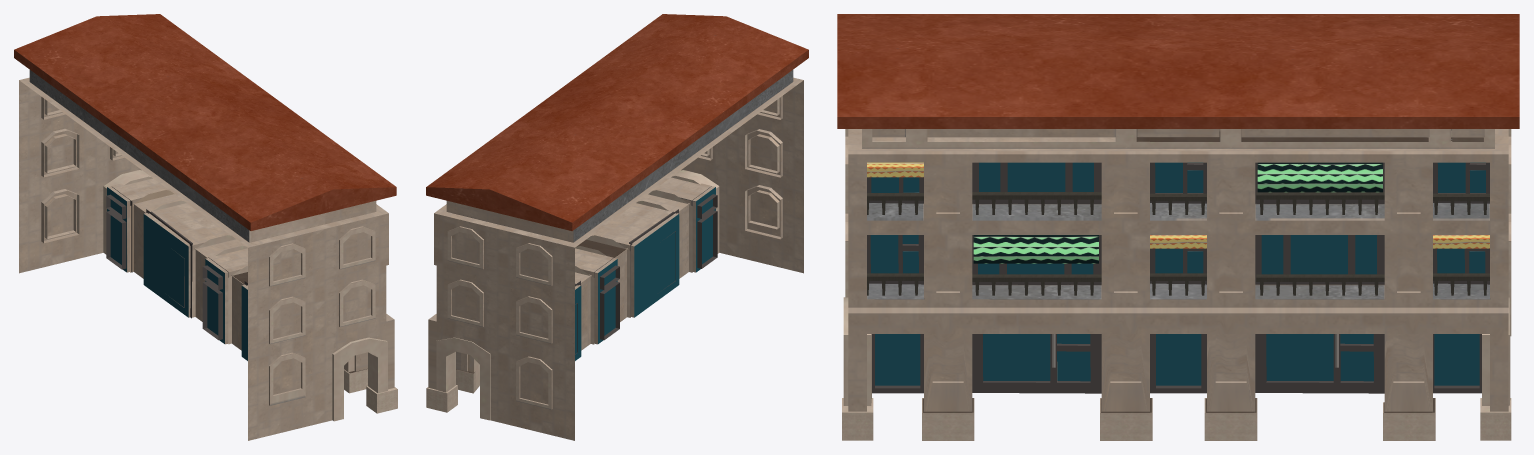
The model's file is Bat_VieuxPort_2.fbx.
3 renders of one model, left to right at view 1: azimuth 30°, elevation 25°; view 2: azimuth 150°, elevation 25°; view 3: azimuth 270°, elevation 25°, orthographic. The views are drawn at different scales.
Parts seen in each view (by area): view 1: Bat_VieuxP_2; view 2: Bat_VieuxP_2; view 3: Bat_VieuxP_2.
Boxes of the visible parts, left/top/right/bottom form: Bat_VieuxP_2: left=14, top=14, right=397, bottom=440; Bat_VieuxP_2: left=426, top=14, right=808, bottom=440; Bat_VieuxP_2: left=837, top=14, right=1519, bottom=440.
Size of the model in its own units: 921 by 1395 by 2530.
